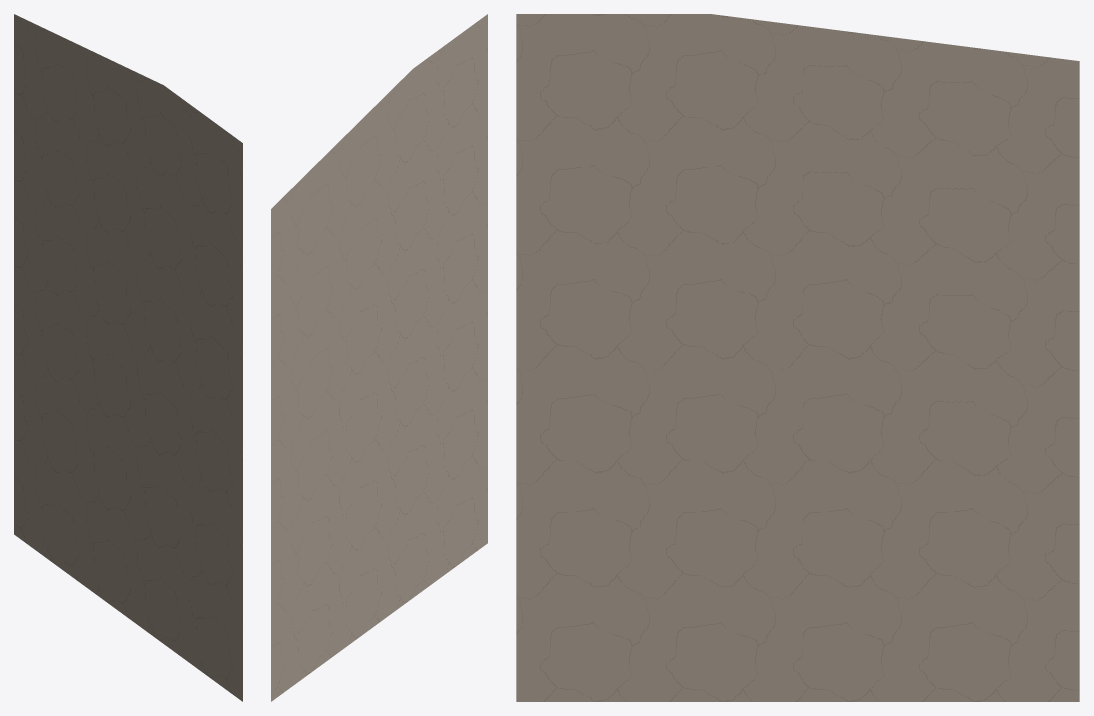
The model's file is kd_stage_135d18_4_146_bounded_piece_19.glb.
3 views of the same model, side by side, from view 1: azimuth 30°, elevation 25°; view 2: azimuth 150°, elevation 25°; view 3: azimuth 270°, elevation 25° (orthographic). The views are drawn at different scales.
Parts seen in each view (by area): view 1: kd_stage_135d18_4_146_bounded_piece_19; view 2: kd_stage_135d18_4_146_bounded_piece_19; view 3: kd_stage_135d18_4_146_bounded_piece_19.
Part boxes in pixels (<box>): kd_stage_135d18_4_146_bounded_piece_19: <box>14,14,242,701</box>; kd_stage_135d18_4_146_bounded_piece_19: <box>271,14,487,701</box>; kd_stage_135d18_4_146_bounded_piece_19: <box>516,14,1079,701</box>.
Bounding box in the file's own units: 9.54e-07 × 2.44 × 1.81.
Materials: 1 (1 with a texture image).
